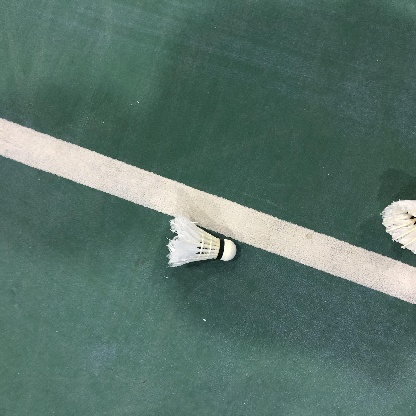ball_single: (168, 216, 237, 267), (381, 200, 416, 254)
